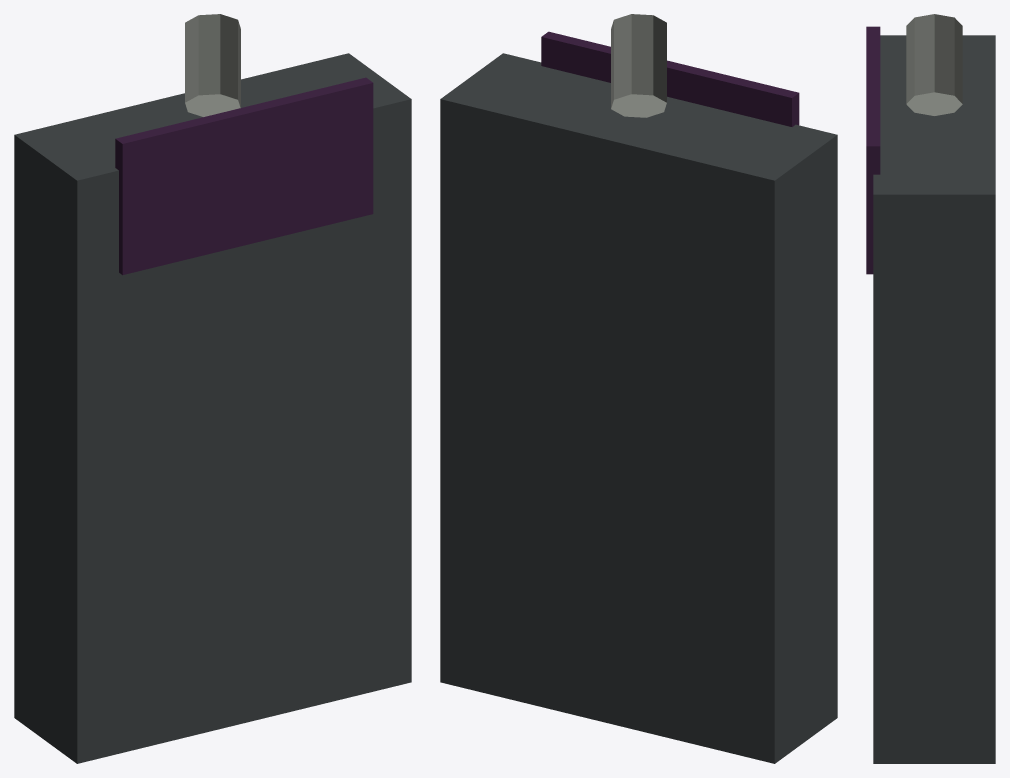
Rendered from headstone_3.glb.
3 views of the same model, side by side, from view 1: azimuth 30°, elevation 25°; view 2: azimuth 150°, elevation 25°; view 3: azimuth 270°, elevation 25° (orthographic). The views are drawn at different scales.
Parts seen in each view (by area): view 1: body; view 2: body; view 3: body.
Part boxes in pixels (box(x1,y1,x2,y2)): body: box(14, 14, 411, 763); body: box(440, 14, 837, 763); body: box(866, 14, 995, 763).
Size of the model in its own units: 0.48 by 0.925 by 0.165.
Materials: 1 (1 with a texture image).
